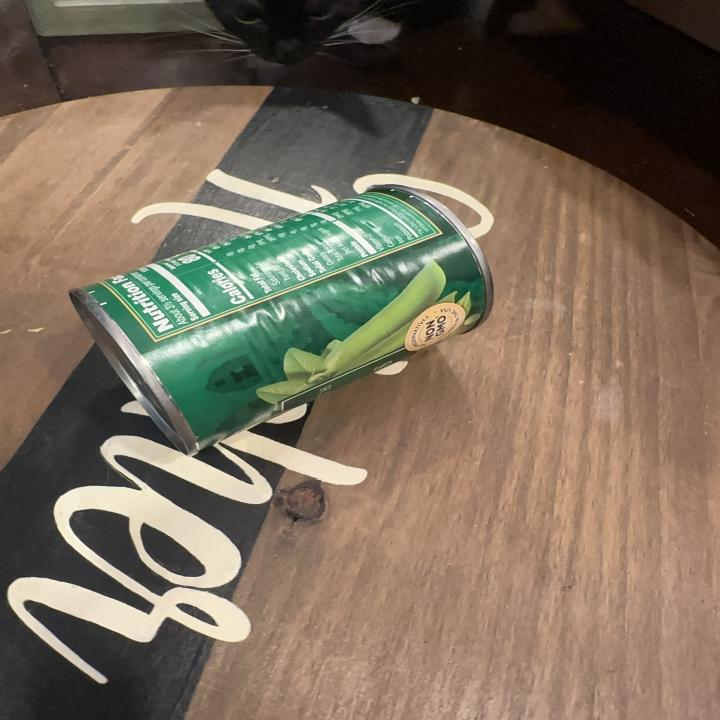Canned-Peas: (66, 178, 500, 461)
